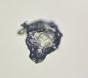microplastic: (17, 20, 63, 64)
